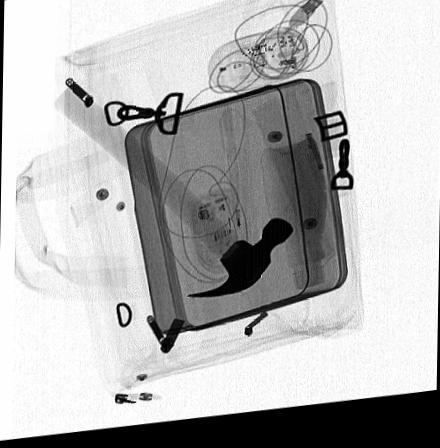Hammer: (51, 85, 293, 304)
